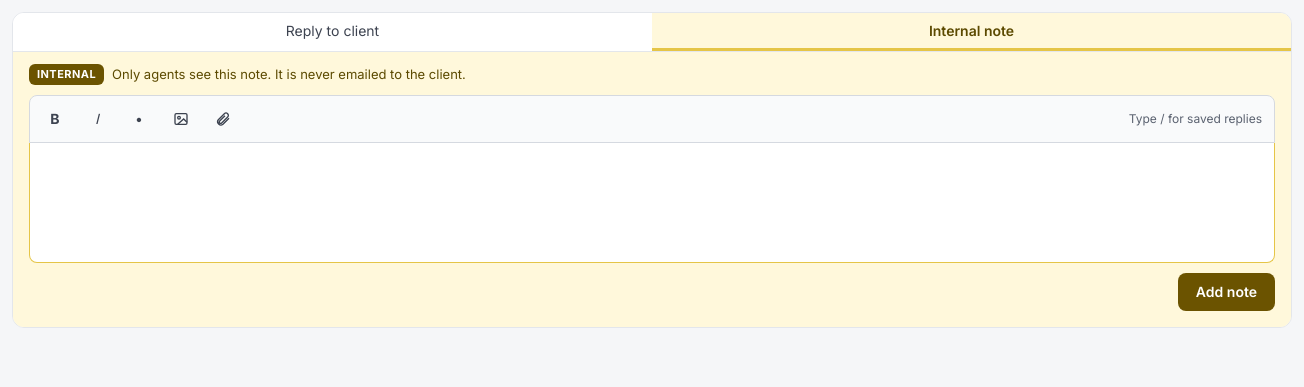
Test: Composer › refuses to send an empty note
The width and height of the screenshot is (1304, 387).
Click the button "Add note" at (1226, 292), box [1178,272,1275,310]
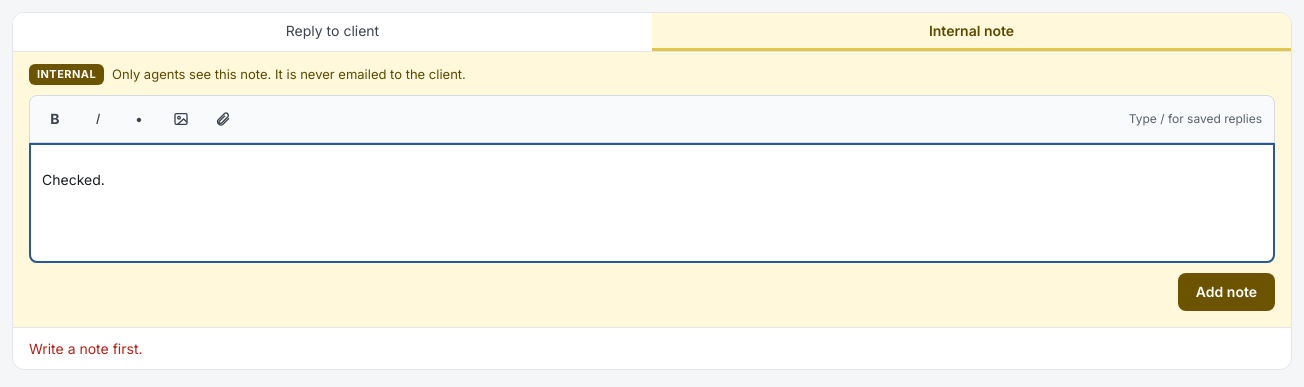
Expected: the message reads "Write a note first.", [29,340,142,356]
Clear the field named "Internal note text" at (652, 202), box [29,142,1275,262]
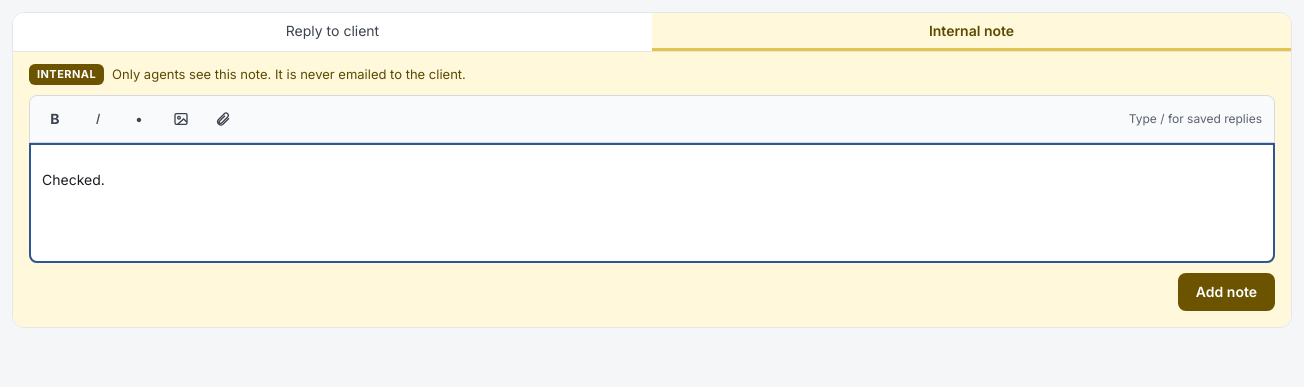
Expected: the message "Write a note first." is gone
